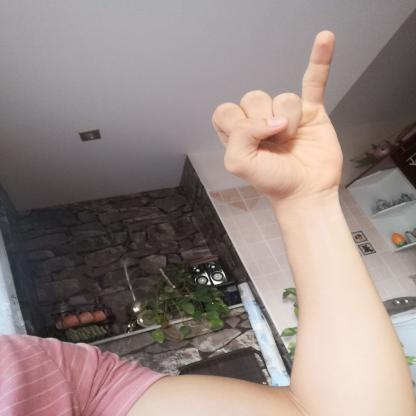MEEM: (197, 23, 355, 210)
